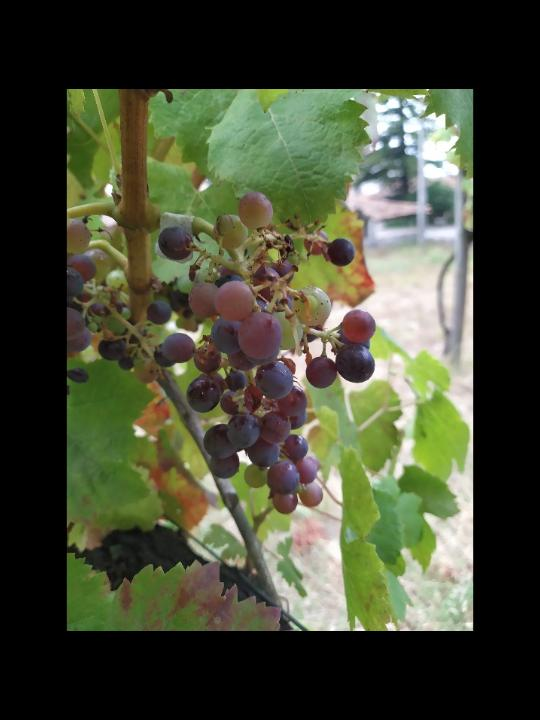grape: (94, 185, 379, 520)
